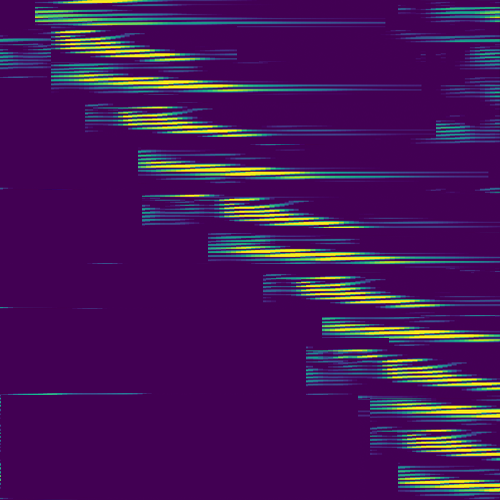semblance: (165, 190, 385, 232), (335, 345, 500, 394), (113, 101, 269, 140), (135, 148, 315, 181), (294, 272, 444, 311), (51, 28, 207, 63), (320, 314, 500, 344), (230, 242, 416, 268), (66, 68, 251, 94), (34, 1, 177, 26), (395, 468, 500, 498), (406, 428, 500, 459), (391, 399, 500, 422)
